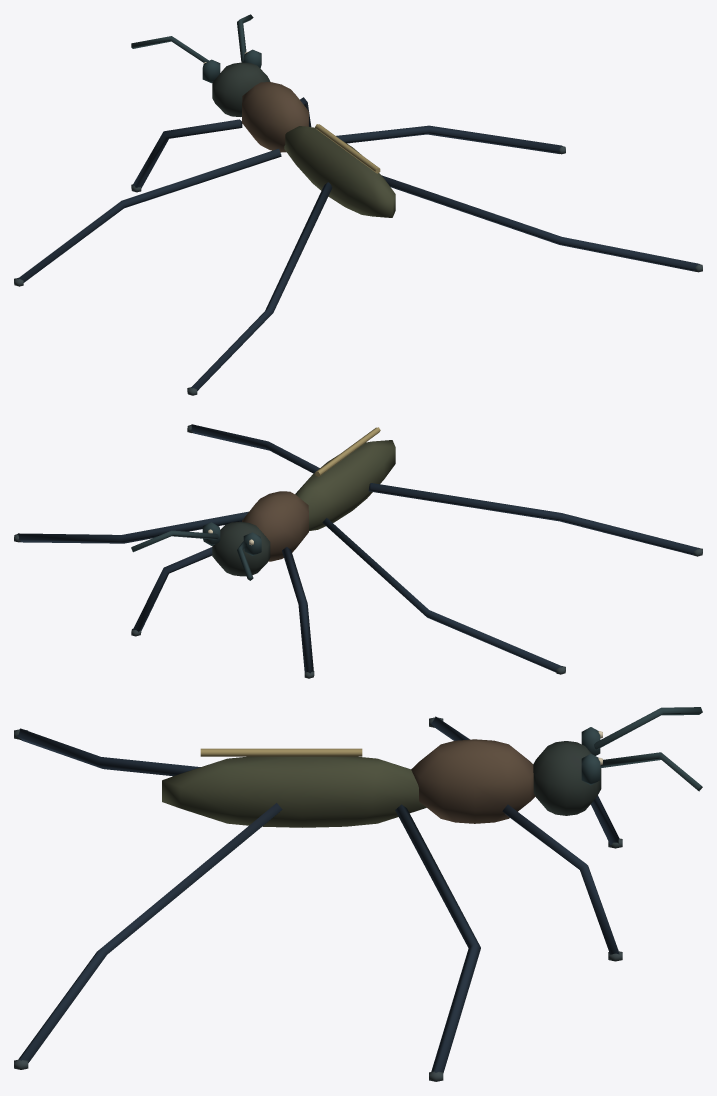
Rendered from insect_water_strider.glb.
3 views of the same model, one above another, from view 1: azimuth 30°, elevation 25°; view 2: azimuth 150°, elevation 25°; view 3: azimuth 270°, elevation 25° (orthographic). The views are drawn at different scales.
Parts seen in each view (by area): view 1: Model; view 2: Model; view 3: Model.
Part boxes in pixels (x1,y1,x2,y2): Model: [14, 14, 702, 395]; Model: [14, 424, 702, 678]; Model: [14, 707, 702, 1081].
Bounding box in the file's own units: 0.2 × 0.0454 × 0.1619.
